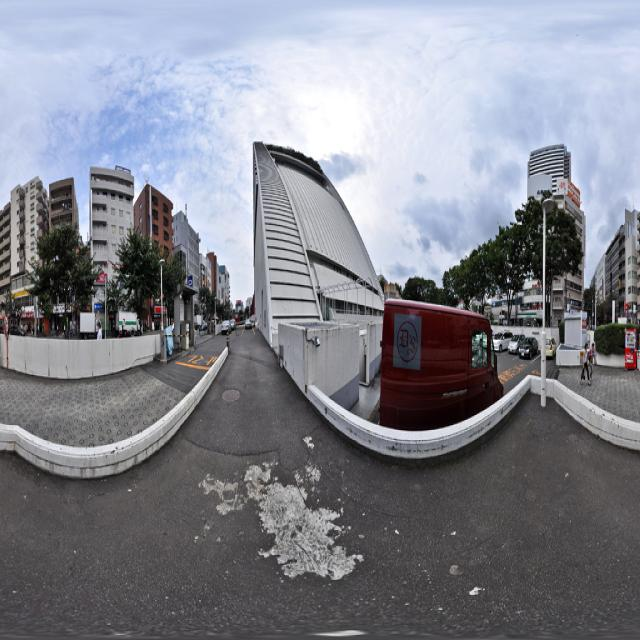car: (243, 316, 252, 334), (221, 318, 230, 334), (199, 320, 207, 329), (245, 319, 251, 328)
